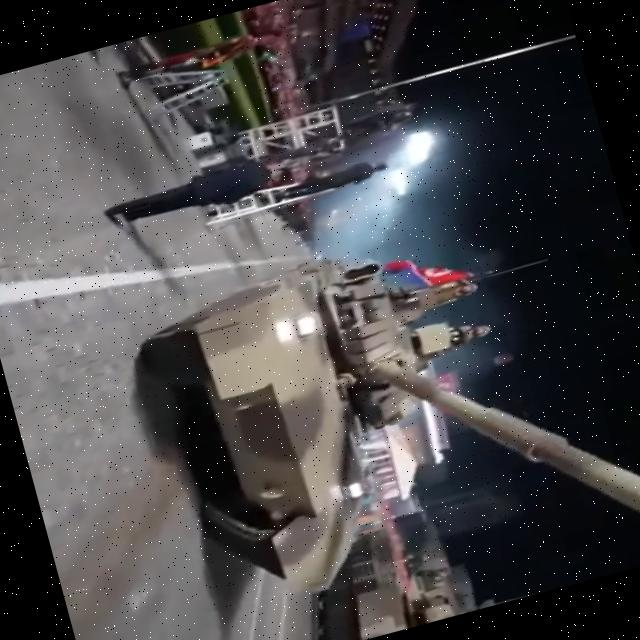north tank: (96, 189, 640, 640)
